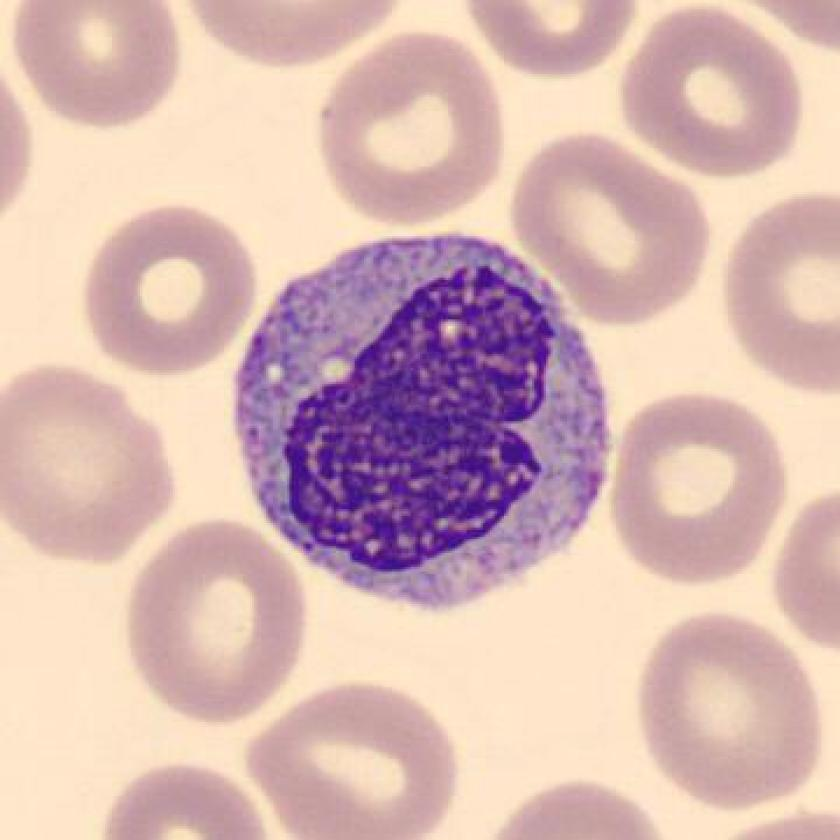monocyte: (213, 212, 631, 635)
